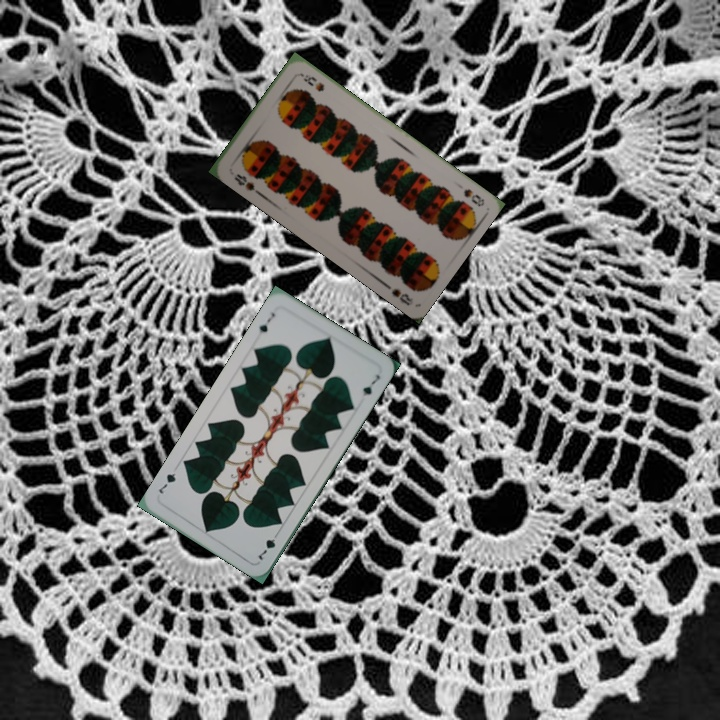G7: (254, 527, 282, 563), (255, 308, 277, 336)
S8: (230, 170, 261, 196), (460, 185, 487, 209)
